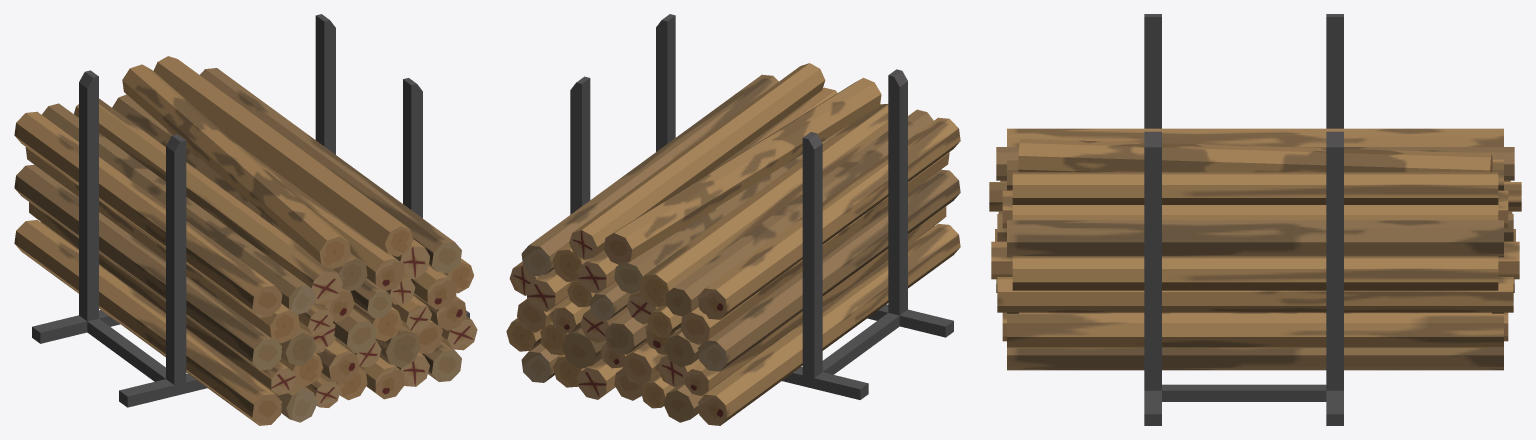
File: SM_Prop_LogPile_Preset_Small_01.fbx
3 views of the same model, side by side, from view 1: azimuth 30°, elevation 25°; view 2: azimuth 150°, elevation 25°; view 3: azimuth 270°, elevation 25° (orthographic). The views are drawn at different scales.
Parts seen in each view (by area): view 1: SM_Prop_LogPile_Preset_Small_01; view 2: SM_Prop_LogPile_Preset_Small_01; view 3: SM_Prop_LogPile_Preset_Small_01.
Boxes of the visible parts, left/top/right/bottom form: SM_Prop_LogPile_Preset_Small_01: left=14, top=14, right=477, bottom=425; SM_Prop_LogPile_Preset_Small_01: left=506, top=14, right=960, bottom=425; SM_Prop_LogPile_Preset_Small_01: left=989, top=14, right=1521, bottom=425.
Size of the model in its own units: 789 by 557 by 1018.
